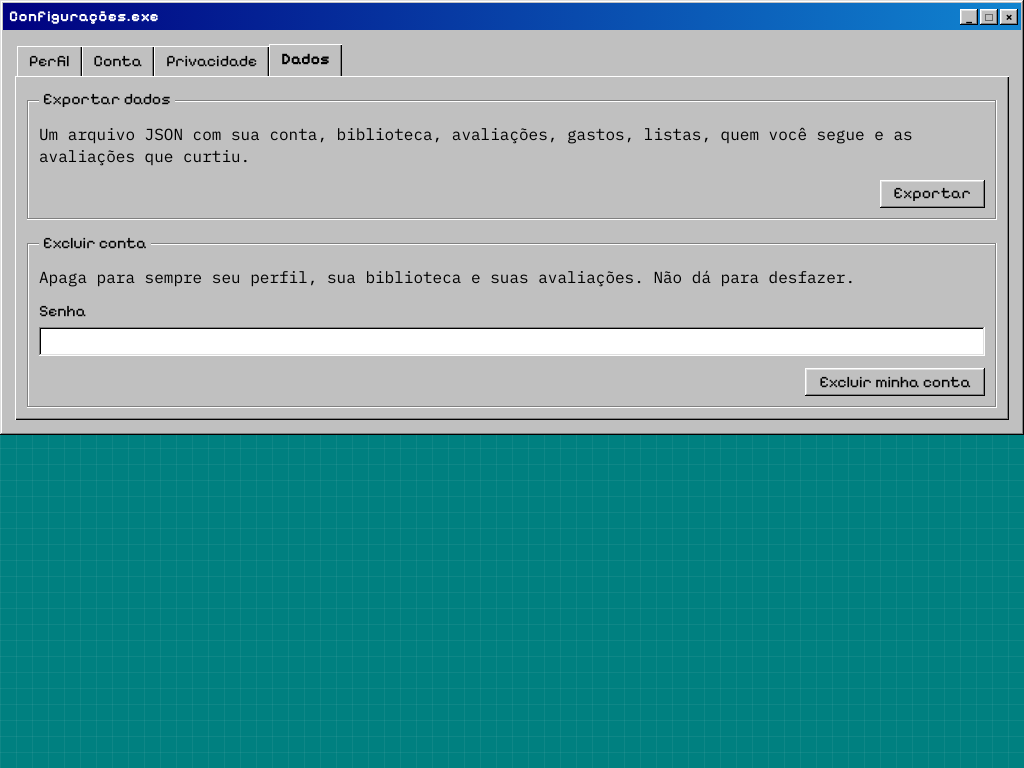
Test: SettingsView › Dados baixa a exportação num arquivo JSON
This screenshot has width=1024, height=768.
Click the button "Exportar".
click(932, 194)  # box [880,180,985,208]
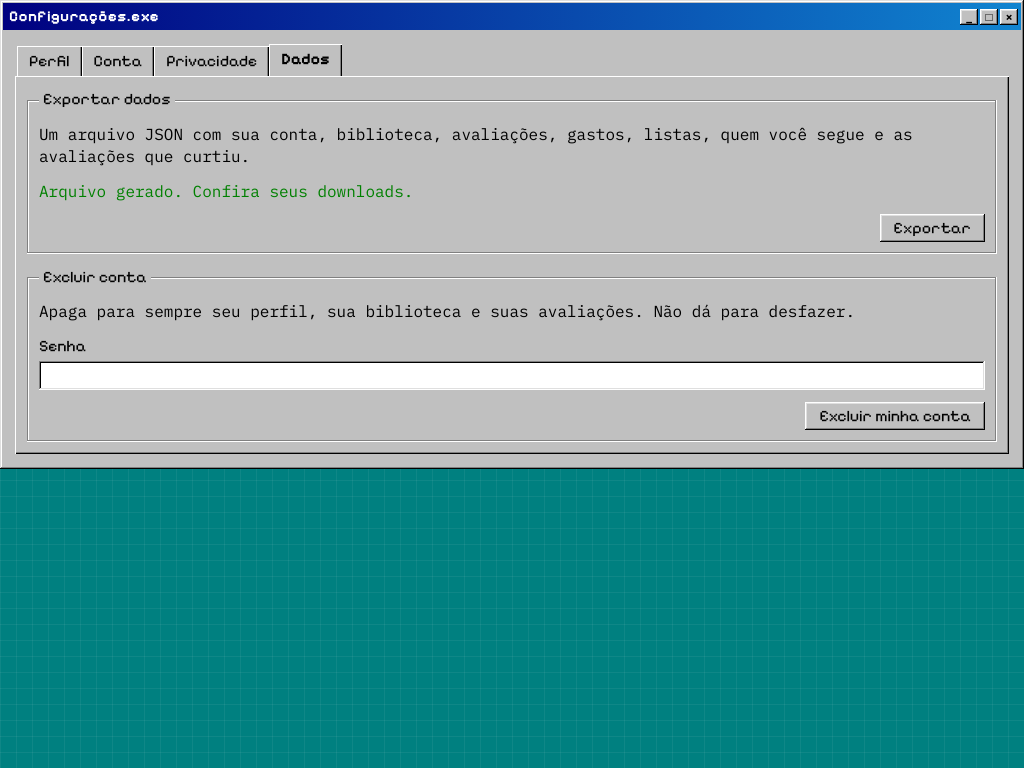
Expected: the message "Arquivo gerado. Confira seus downloads." is shown, [39,181,413,201]
